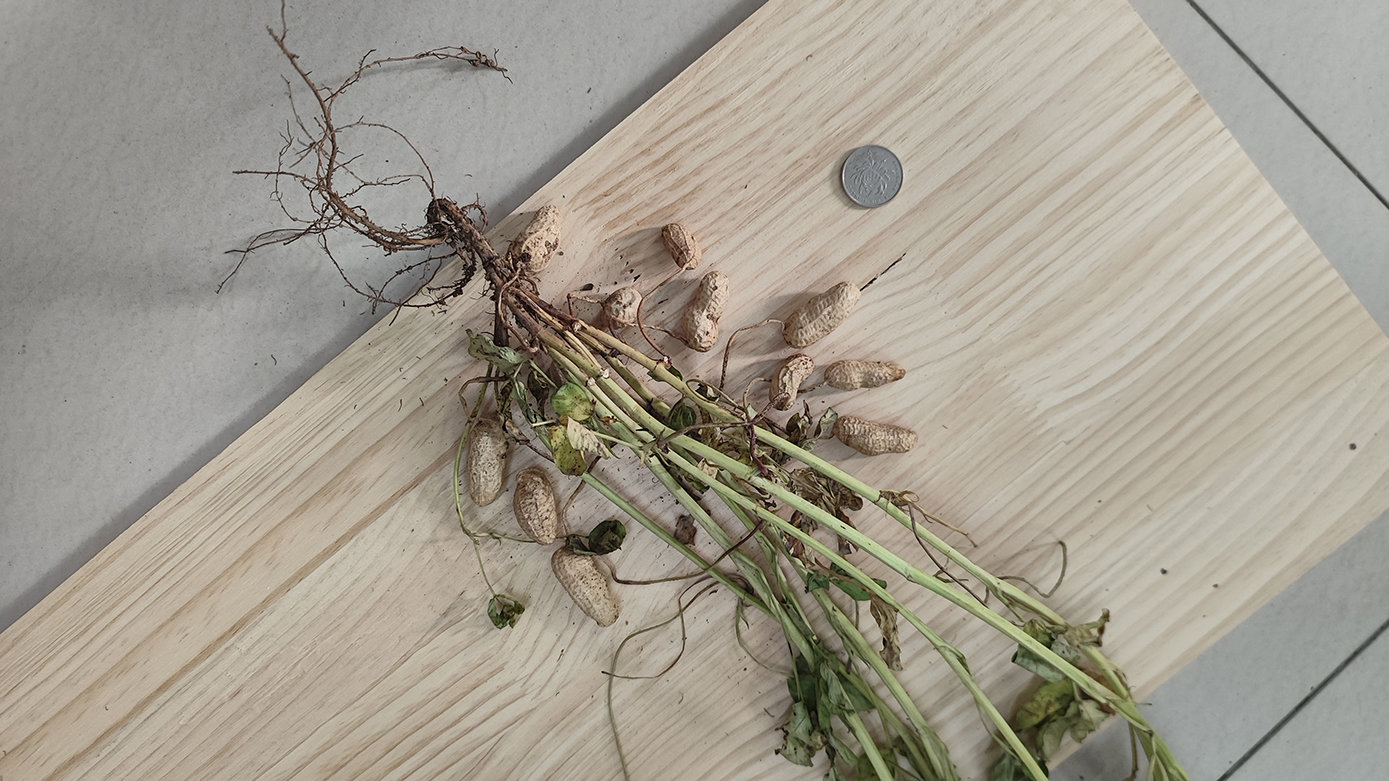h: (550, 547, 620, 628), (783, 280, 862, 348), (466, 412, 511, 505), (681, 272, 730, 354), (509, 467, 558, 544), (832, 414, 918, 456), (509, 204, 560, 274), (771, 354, 816, 411), (823, 358, 908, 388), (662, 222, 701, 268), (603, 287, 641, 328)
